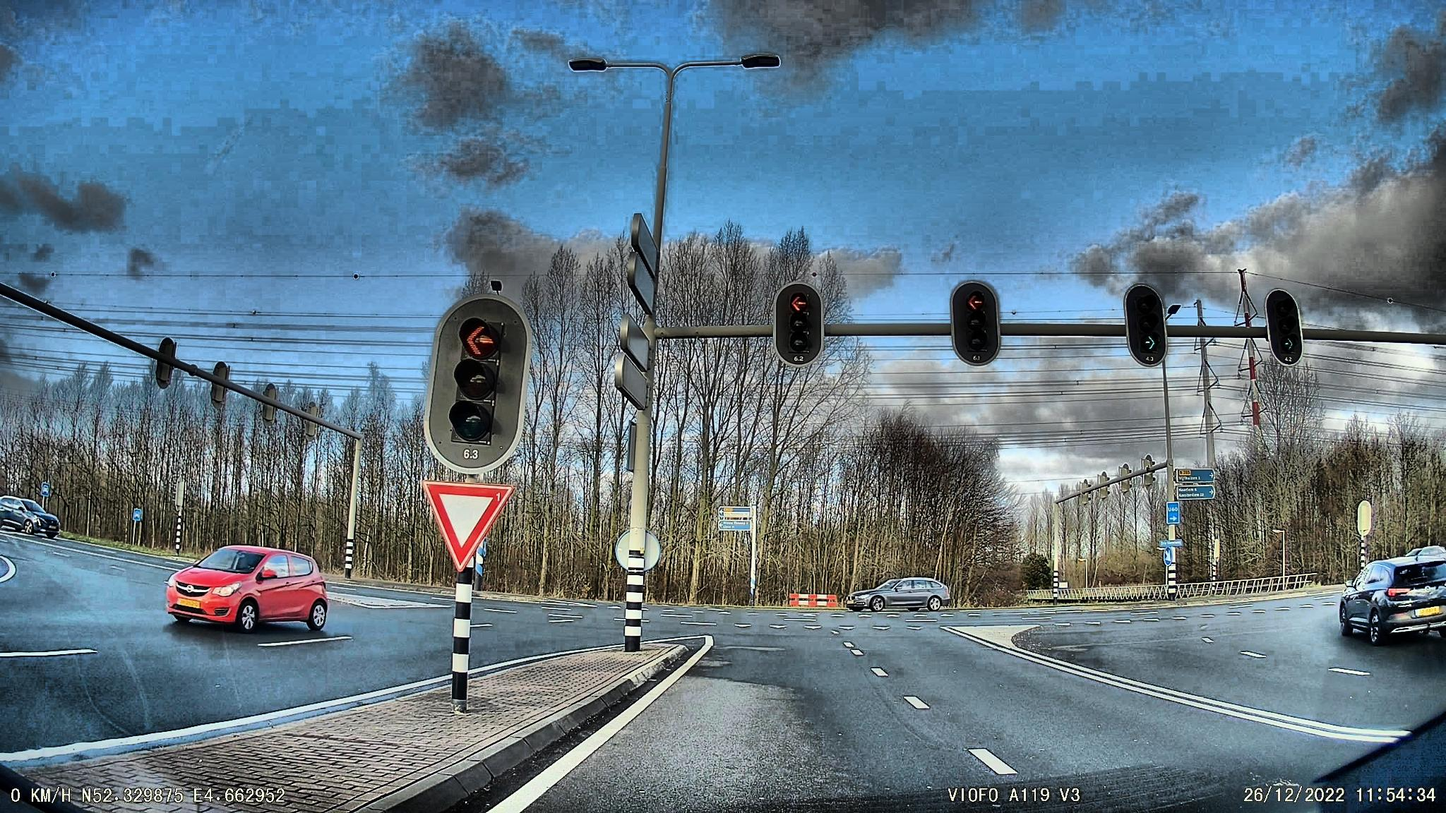Roads: (0, 534, 1446, 813)
